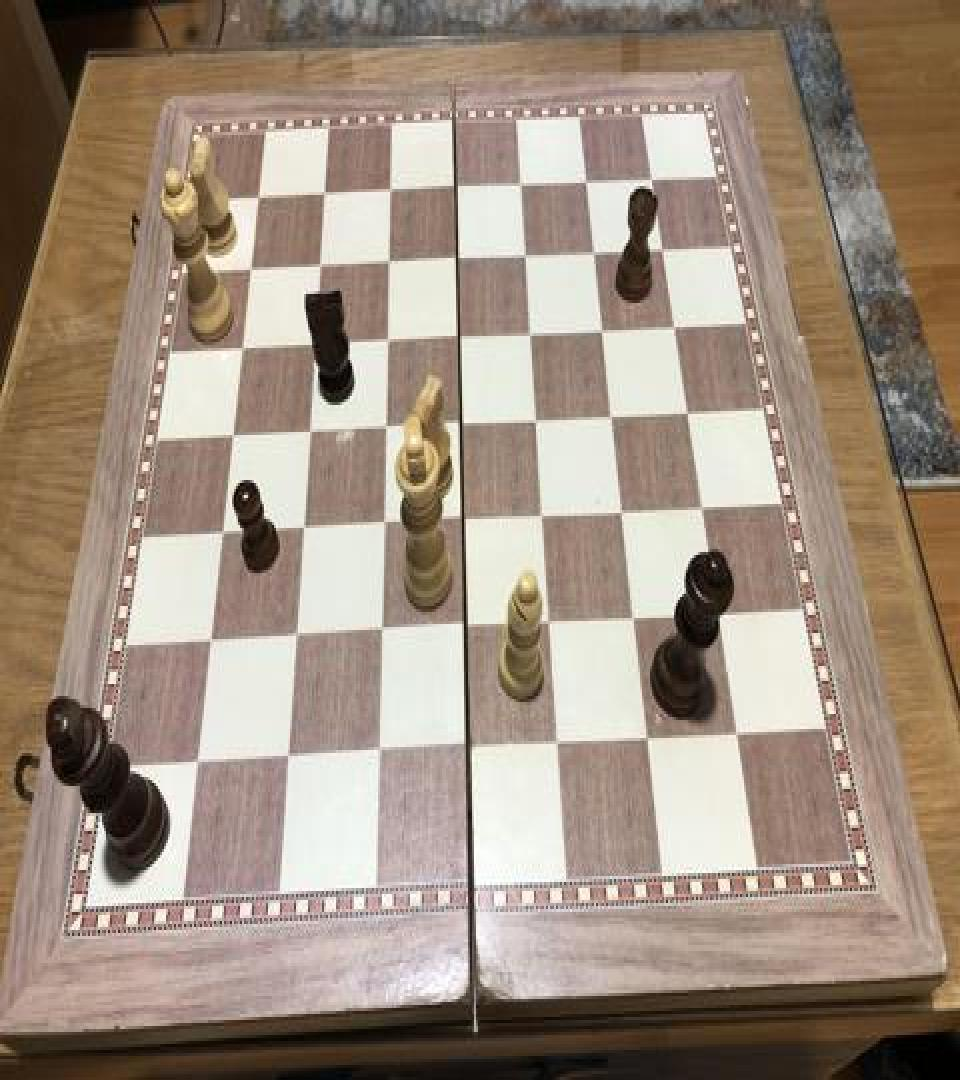xcorner: (622, 601, 646, 638), (454, 610, 478, 647), (641, 162, 665, 198), (576, 165, 600, 201), (510, 168, 534, 204), (445, 171, 469, 207), (379, 174, 403, 210), (314, 177, 338, 213), (248, 182, 272, 218), (651, 232, 675, 268), (583, 236, 607, 272), (515, 240, 539, 276), (446, 243, 470, 279), (378, 246, 402, 282), (309, 249, 333, 285), (240, 254, 264, 290), (663, 310, 687, 346), (591, 314, 615, 350), (520, 318, 544, 354), (448, 321, 472, 357), (376, 326, 400, 362), (232, 332, 256, 368), (676, 396, 700, 432), (601, 400, 625, 436), (525, 404, 549, 440), (450, 408, 474, 444), (298, 416, 322, 452), (222, 420, 246, 456), (690, 492, 714, 528), (611, 495, 635, 531), (531, 500, 555, 536), (452, 504, 476, 540), (372, 508, 396, 544), (292, 512, 316, 548), (212, 516, 236, 552), (706, 597, 730, 633), (538, 606, 562, 642), (370, 615, 394, 651), (285, 620, 309, 656), (201, 624, 225, 660), (723, 716, 747, 752), (634, 720, 658, 756), (545, 726, 569, 762), (456, 730, 480, 766), (367, 735, 391, 771), (277, 741, 301, 777), (188, 746, 212, 782), (304, 329, 328, 364), (374, 413, 398, 448)
